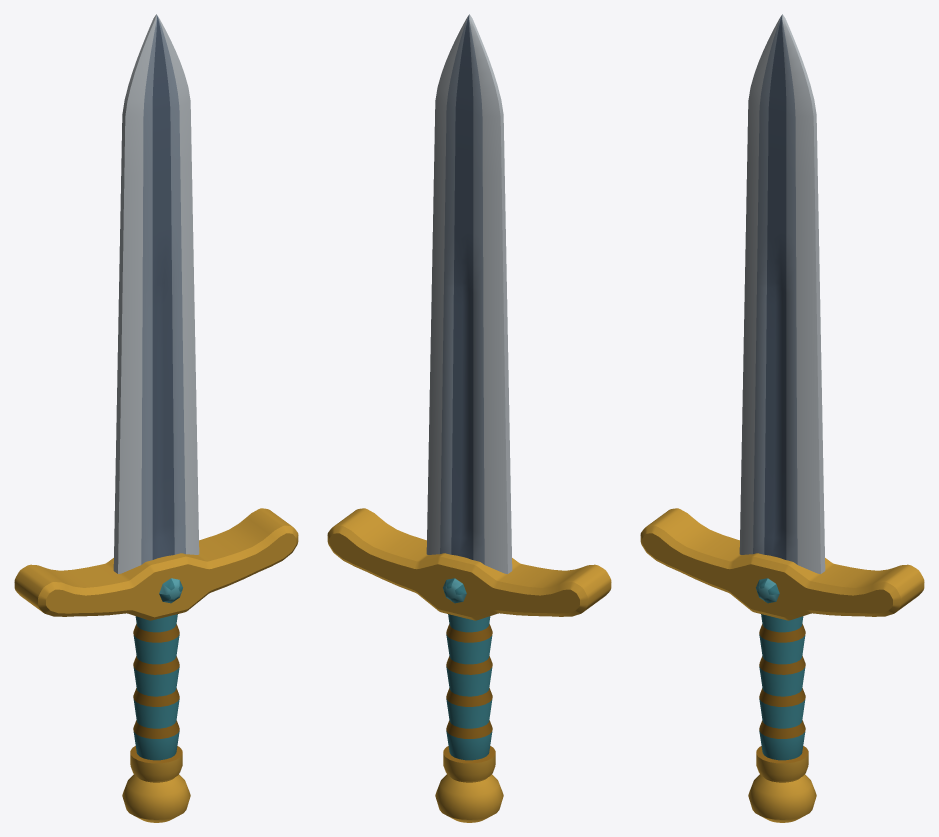
Rendered from Longsword_03.glb.
3 renders of one model, left to right at view 1: azimuth 30°, elevation 25°; view 2: azimuth 150°, elevation 25°; view 3: azimuth 330°, elevation 25°, orthographic.
Parts seen in each view (by area): view 1: Longsword_03; view 2: Longsword_03; view 3: Longsword_03.
Part boxes in pixels (x1,y1,x2,y2): Longsword_03: (14,14,298,822); Longsword_03: (327,14,611,822); Longsword_03: (640,14,924,822).
Size of the model in its own units: 2.32 by 6.81 by 0.5648.
